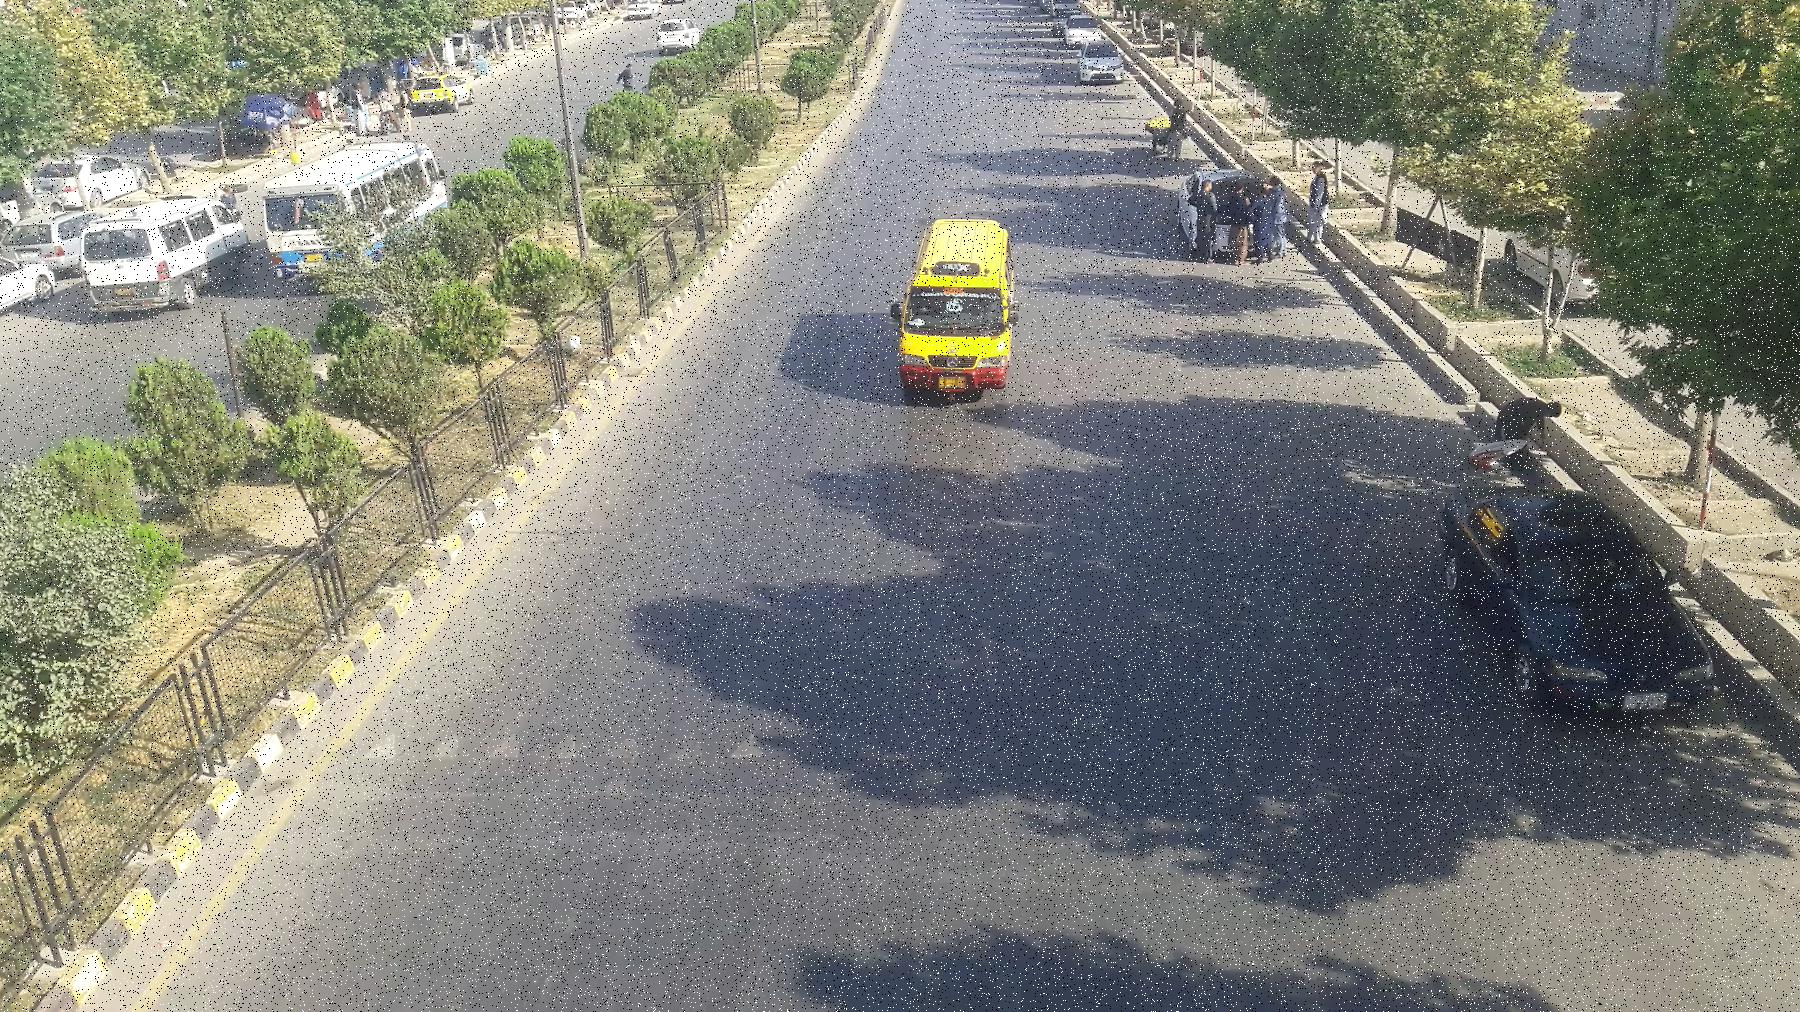bus: (888, 211, 1024, 395), (263, 142, 448, 278), (59, 196, 241, 310)
car: (1435, 478, 1716, 711), (5, 215, 100, 271), (0, 256, 49, 329), (413, 75, 476, 112), (1079, 49, 1124, 83), (654, 22, 694, 51)
